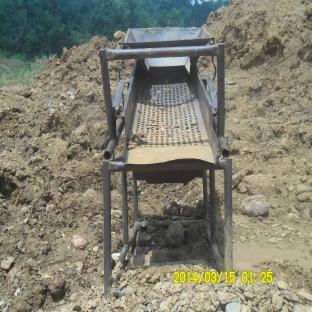ProcessingEquipment: (99, 17, 239, 266)
